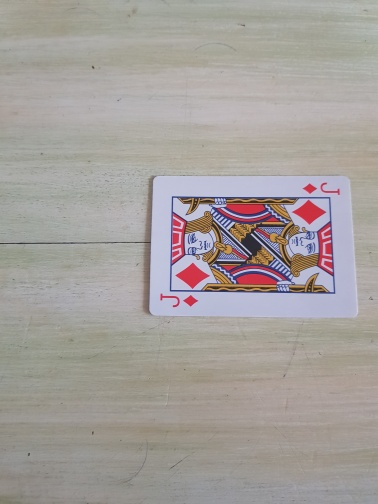jack: (147, 175, 360, 320)
